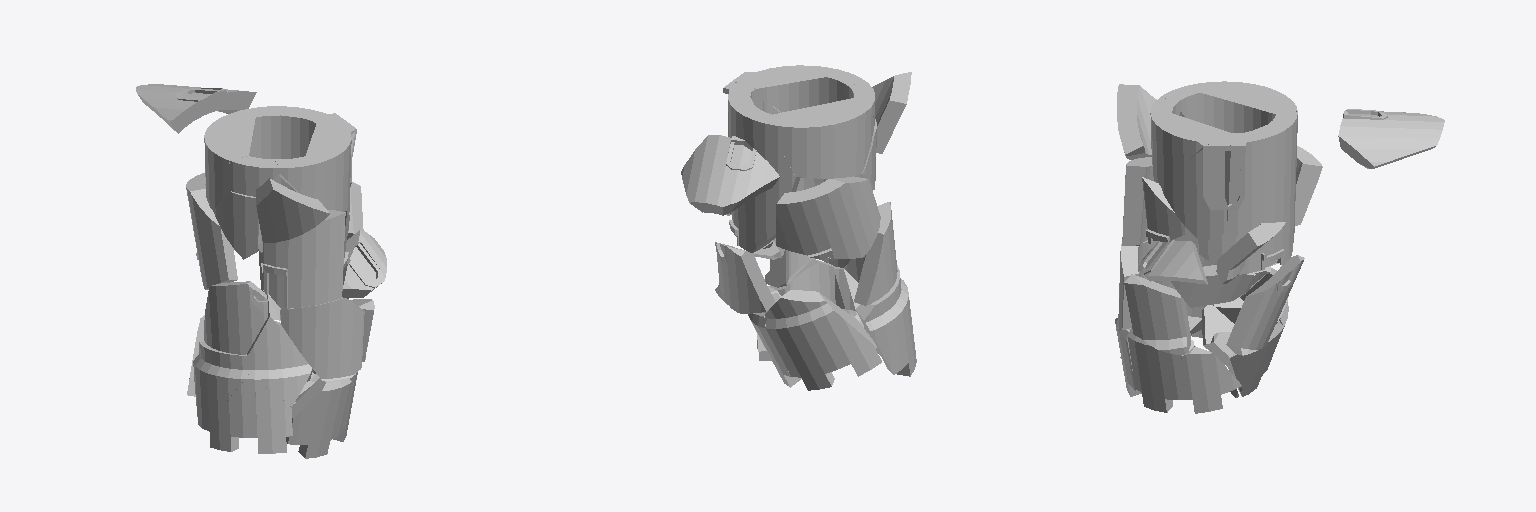
Rendered from destruction_tower_000036.obj.
3 views of the same model, side by side, from view 1: azimuth 30°, elevation 25°; view 2: azimuth 150°, elevation 25°; view 3: azimuth 270°, elevation 25° (orthographic).
Visible parts, largest first — view 1: tower.001_cell.024_Mesh.024, tower.001_cell.021_Mesh.021, tower.001_cell.006_Mesh.006, tower.001_cell.028_Mesh.028, tower.001_cell.009_Mesh.009, tower.001_cell.011_Mesh.011, tower.001_cell.013_Mesh.013, tower.001_cell.025_Mesh.025, tower.001_cell.002_Mesh.002, tower.001_cell.003_Mesh.003, tower.001_cell.015_Mesh.015, tower.001_cell.005_Mesh.005 (+6 smaller); view 2: tower.001_cell.007_Mesh.007, tower.001_cell.003_Mesh.003, tower.001_cell.015_Mesh.015, tower.001_cell.025_Mesh.025, tower.001_cell.017_Mesh.017, tower.001_cell.028_Mesh.028, tower.001_cell.005_Mesh.005, tower.001_cell.012_Mesh.012, tower.001_cell.009_Mesh.009, tower.001_cell.002_Mesh.002, tower.001_cell.023_Mesh.023, tower.001_cell_Mesh (+3 smaller); view 3: tower.001_cell.017_Mesh.017, tower.001_cell.020_Mesh.020, tower.001_cell.025_Mesh.025, tower.001_cell_Mesh, tower.001_cell.015_Mesh.015, tower.001_cell.028_Mesh.028, tower.001_cell.012_Mesh.012, tower.001_cell.030_Mesh.030, tower.001_cell.002_Mesh.002, tower.001_cell.026_Mesh.026, tower.001_cell.010_Mesh.010, tower.001_cell.023_Mesh.023 (+12 smaller).
Part boxes in pixels (bbox=[...]): tower.001_cell.024_Mesh.024: bbox=[262, 210, 345, 308]; tower.001_cell.021_Mesh.021: bbox=[280, 297, 364, 380]; tower.001_cell.006_Mesh.006: bbox=[208, 377, 292, 453]; tower.001_cell.028_Mesh.028: bbox=[274, 124, 355, 210]; tower.001_cell.009_Mesh.009: bbox=[204, 281, 267, 354]; tower.001_cell.011_Mesh.011: bbox=[286, 378, 351, 458]; tower.001_cell.013_Mesh.013: bbox=[247, 316, 311, 406]; tower.001_cell.025_Mesh.025: bbox=[136, 84, 256, 133]; tower.001_cell.002_Mesh.002: bbox=[256, 178, 329, 242]; tower.001_cell.003_Mesh.003: bbox=[186, 173, 237, 289]; tower.001_cell.015_Mesh.015: bbox=[204, 111, 255, 211]; tower.001_cell.005_Mesh.005: bbox=[193, 341, 248, 430]; tower.001_cell.007_Mesh.007: bbox=[764, 290, 881, 390]; tower.001_cell.003_Mesh.003: bbox=[776, 176, 880, 259]; tower.001_cell.015_Mesh.015: bbox=[768, 98, 873, 178]; tower.001_cell.025_Mesh.025: bbox=[681, 135, 779, 215]; tower.001_cell.017_Mesh.017: bbox=[728, 92, 800, 252]; tower.001_cell.028_Mesh.028: bbox=[744, 65, 863, 112]; tower.001_cell.005_Mesh.005: bbox=[855, 267, 910, 374]; tower.001_cell.012_Mesh.012: bbox=[715, 242, 775, 313]; tower.001_cell.009_Mesh.009: bbox=[854, 202, 897, 305]; tower.001_cell.002_Mesh.002: bbox=[872, 72, 911, 153]; tower.001_cell.023_Mesh.023: bbox=[770, 259, 835, 303]; tower.001_cell_Mesh: bbox=[765, 250, 814, 287]; tower.001_cell.017_Mesh.017: bbox=[1251, 111, 1297, 265]; tower.001_cell.020_Mesh.020: bbox=[1161, 140, 1230, 241]; tower.001_cell.025_Mesh.025: bbox=[1338, 109, 1444, 168]; tower.001_cell_Mesh: bbox=[1124, 274, 1190, 355]; tower.001_cell.015_Mesh.015: bbox=[1201, 81, 1297, 132]; tower.001_cell.028_Mesh.028: bbox=[1150, 98, 1231, 185]; tower.001_cell.012_Mesh.012: bbox=[1226, 255, 1304, 355]; tower.001_cell.030_Mesh.030: bbox=[1153, 346, 1241, 413]; tower.001_cell.002_Mesh.002: bbox=[1117, 84, 1156, 159]; tower.001_cell.026_Mesh.026: bbox=[1225, 131, 1250, 237]; tower.001_cell.010_Mesh.010: bbox=[1138, 240, 1207, 284]; tower.001_cell.023_Mesh.023: bbox=[1128, 328, 1194, 409].
Bounding box in the file's own units: 62.92 × 91.44 × 95.65.